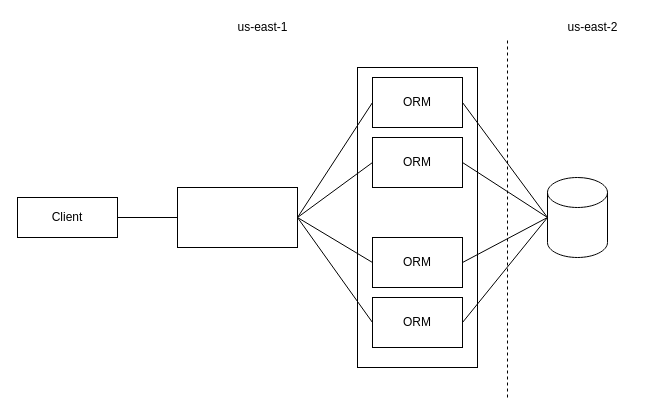
Image size: 645x416. Some labels were removed from this diagram. The shapes that lost their labels are listed below. From the top down, each one's box as (x1, y1, x2, y2) in pixels, then its label:
(176, 186, 298, 248): LoadBalancer
(356, 66, 478, 368): AutoscalingGroup
(546, 176, 608, 258): DB
